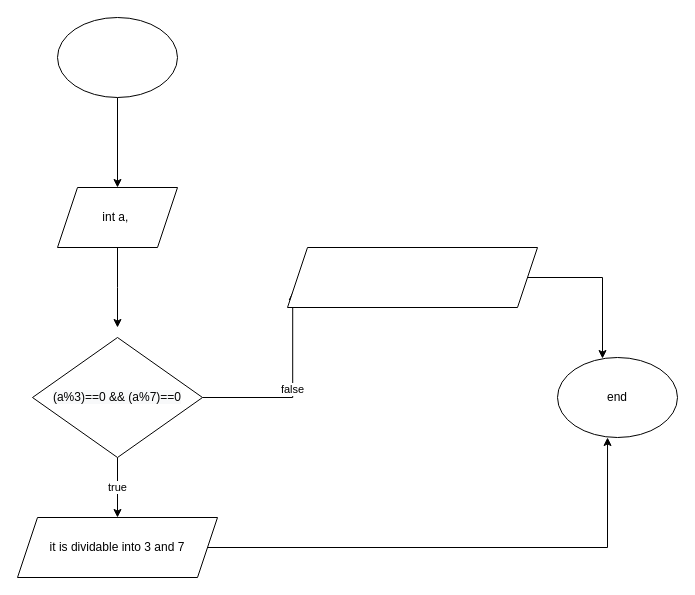
Image size: 695x595. Some labels were removed from this diagram. The centre of each missing label's shape, as x and y in pixels:
"it is not dividable into 3 and 7" goes at (x=412, y=277).
"start" goes at (x=117, y=57).
